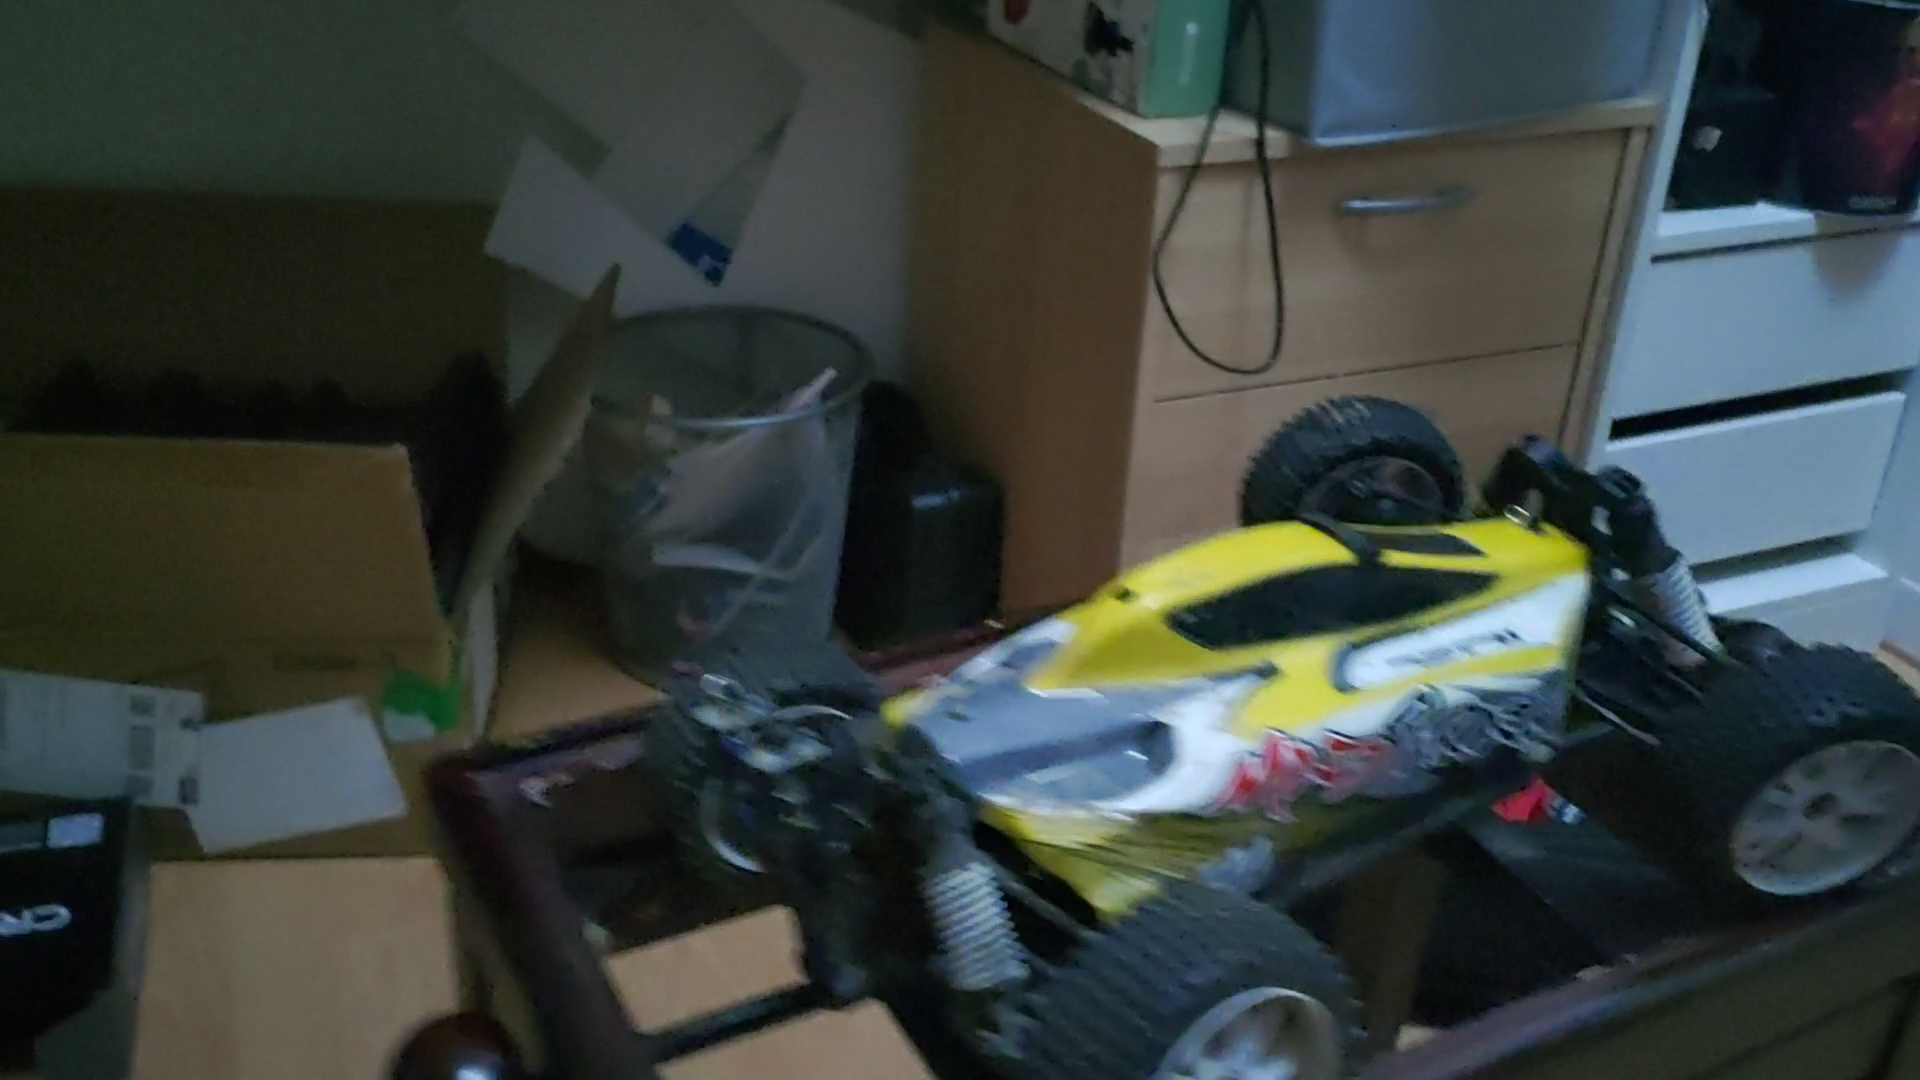buggy: (640, 392, 1909, 1067)
